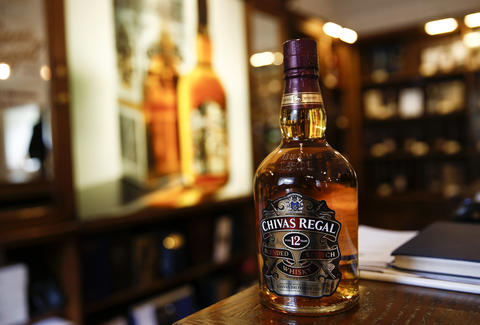Chivas Regal: (241, 34, 372, 319)
